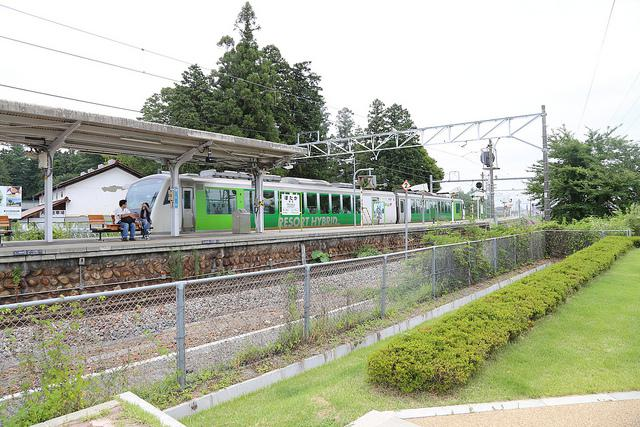Train: (124, 172, 470, 233)
